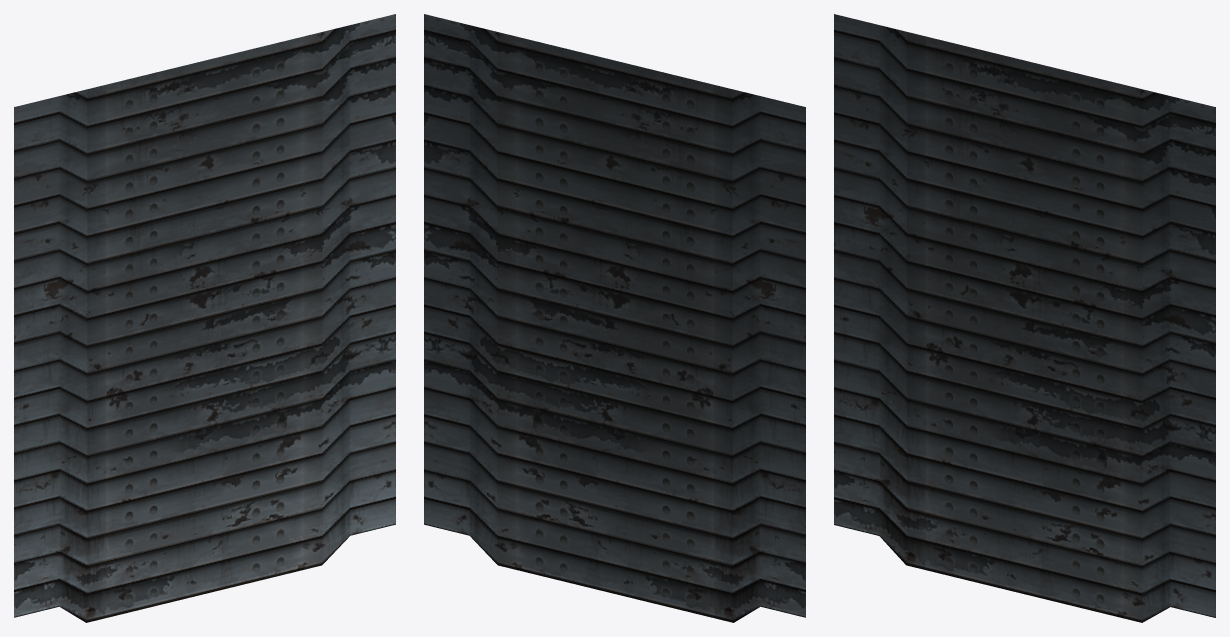
Rendered from Blind2.fbx.
3 renders of one model, left to right at view 1: azimuth 30°, elevation 25°; view 2: azimuth 150°, elevation 25°; view 3: azimuth 330°, elevation 25°, orthographic.
Parts seen in each view (by area): view 1: polySurface258; view 2: polySurface258; view 3: polySurface258.
Boxes of the visible parts, <box> form: polySurface258: <box>14,14,395,622</box>; polySurface258: <box>424,14,805,622</box>; polySurface258: <box>834,14,1215,622</box>.
Size of the model in its own units: 0.7625 by 1.02 by 0.
